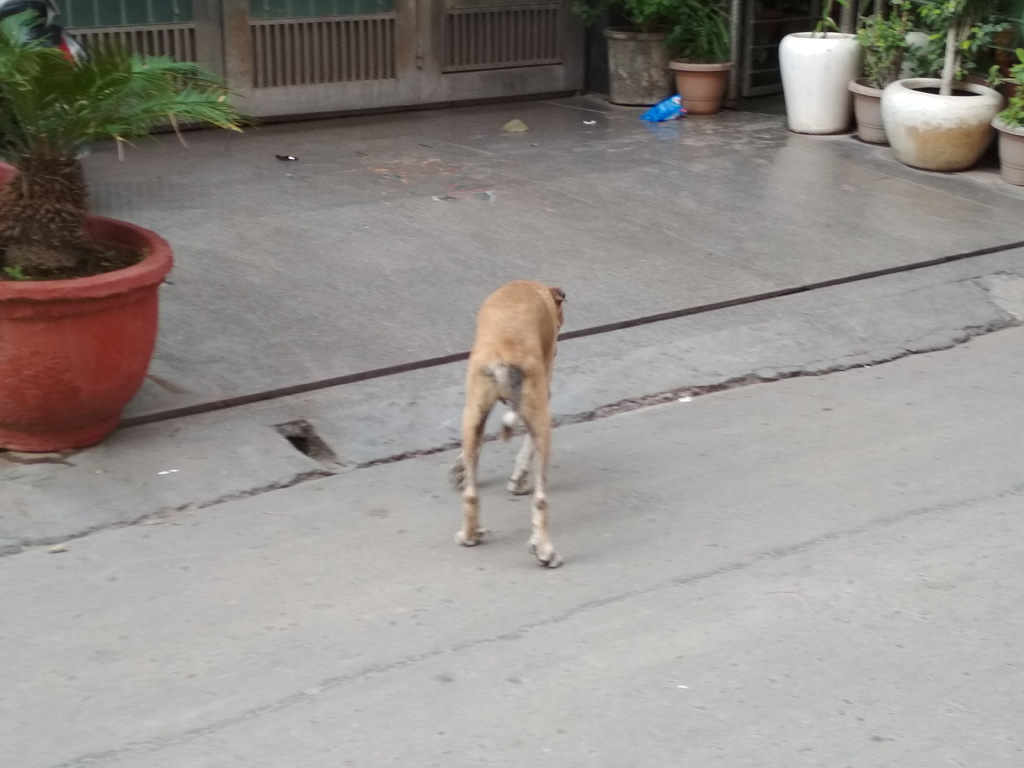dog: (447, 278, 569, 569)
